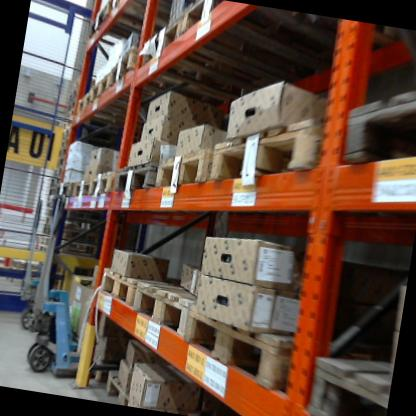pallet: (136, 12, 338, 113), (102, 37, 292, 143), (172, 301, 319, 409), (174, 0, 372, 76), (205, 94, 329, 211), (333, 59, 416, 189), (84, 71, 223, 136), (93, 262, 218, 334), (296, 335, 394, 416), (126, 278, 199, 351), (150, 133, 219, 204), (82, 1, 174, 54), (71, 90, 164, 136), (101, 372, 195, 413), (106, 0, 207, 38), (109, 158, 157, 204), (36, 223, 106, 246), (35, 234, 97, 257), (86, 167, 117, 208), (43, 211, 104, 231), (69, 168, 94, 205), (52, 174, 74, 206), (43, 167, 63, 185), (49, 153, 64, 172), (58, 128, 72, 145), (55, 136, 71, 150), (57, 145, 69, 163), (48, 184, 62, 198), (61, 118, 73, 129)
pallet_truck: (26, 200, 130, 385), (26, 193, 93, 345), (2, 174, 54, 325)
